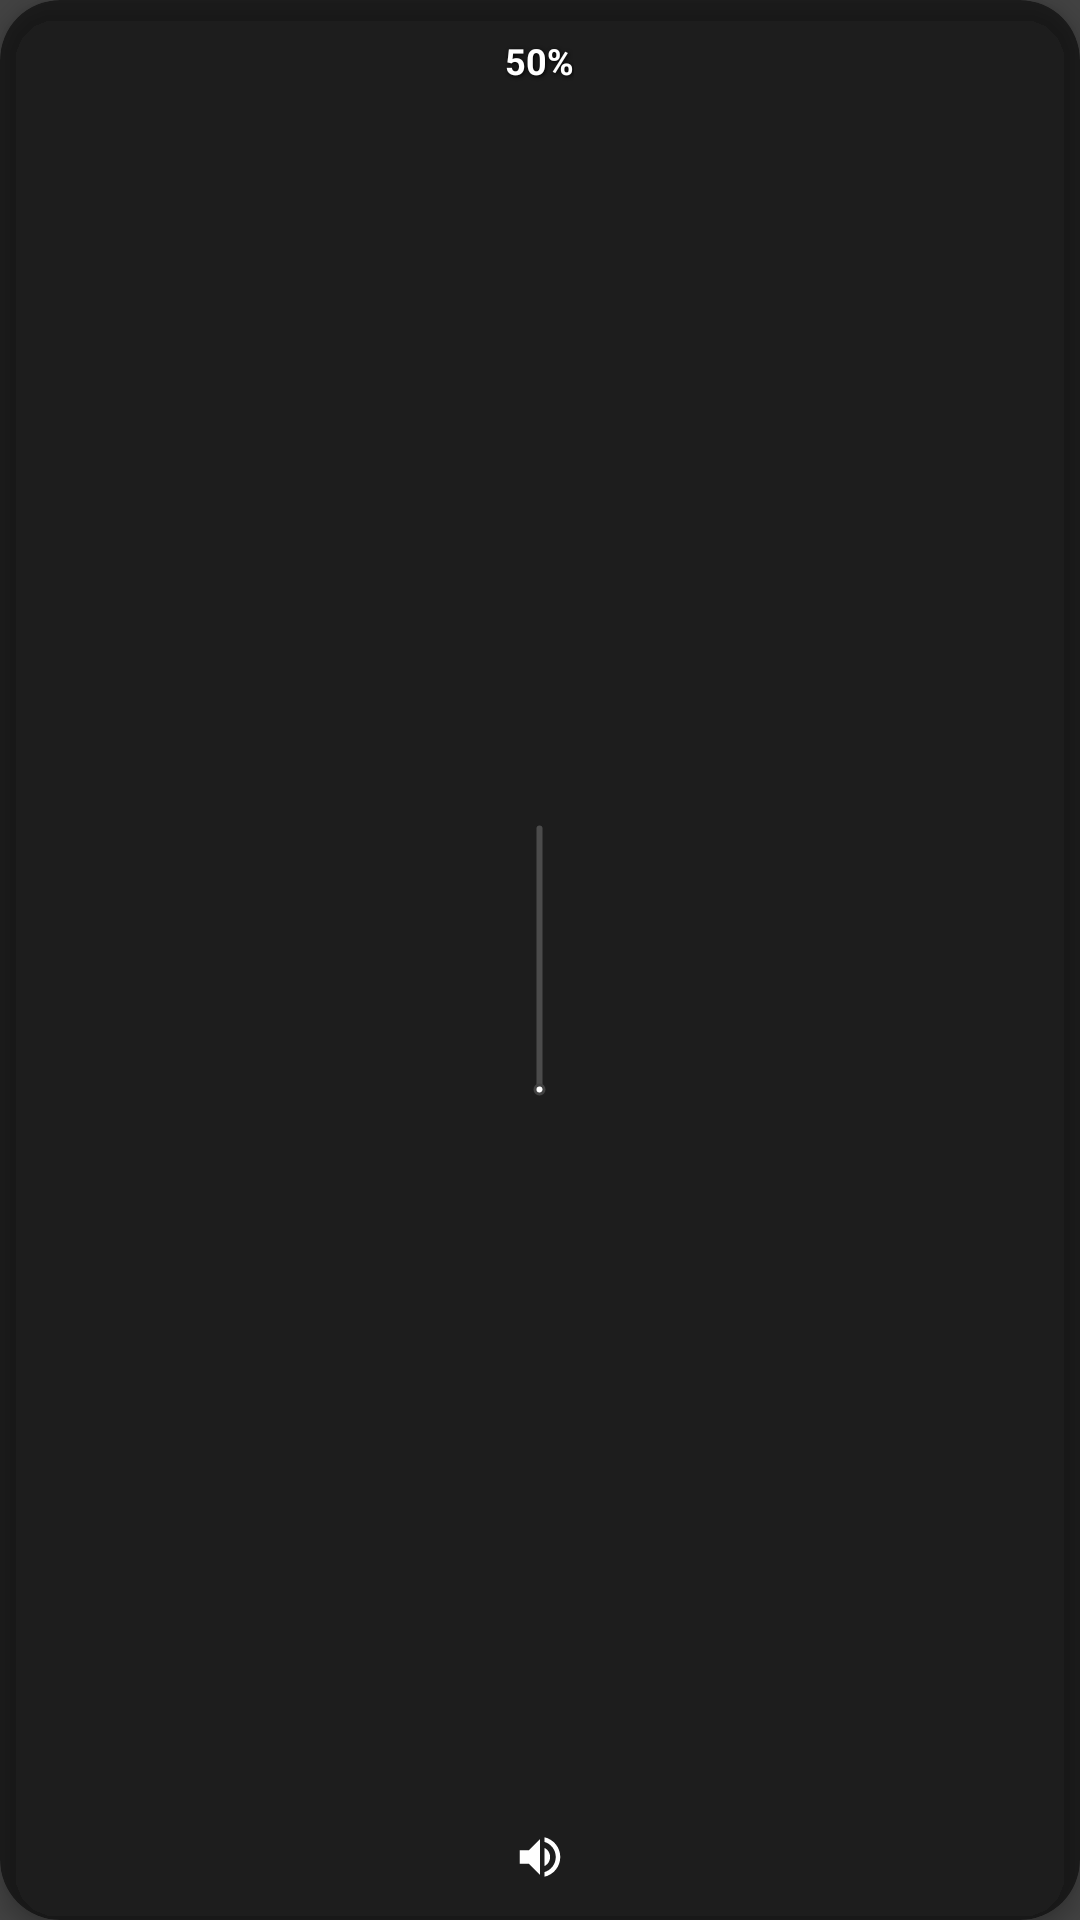

Icon click points for this 1080 x 1920 phone screenshot, format [x,y]:
volume on: [540,1857]
